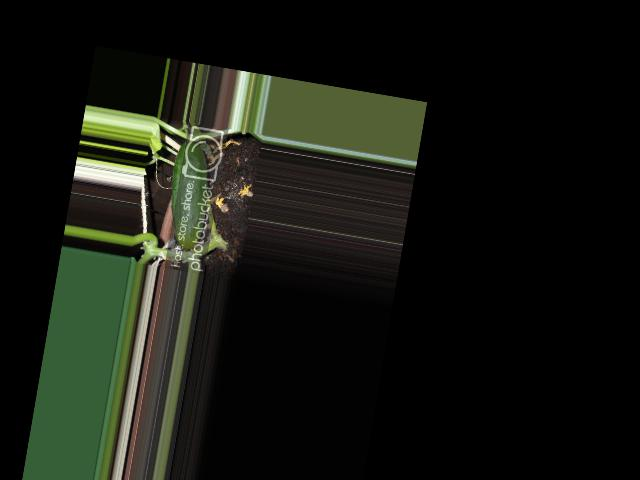cucumber: (161, 139, 217, 251)
